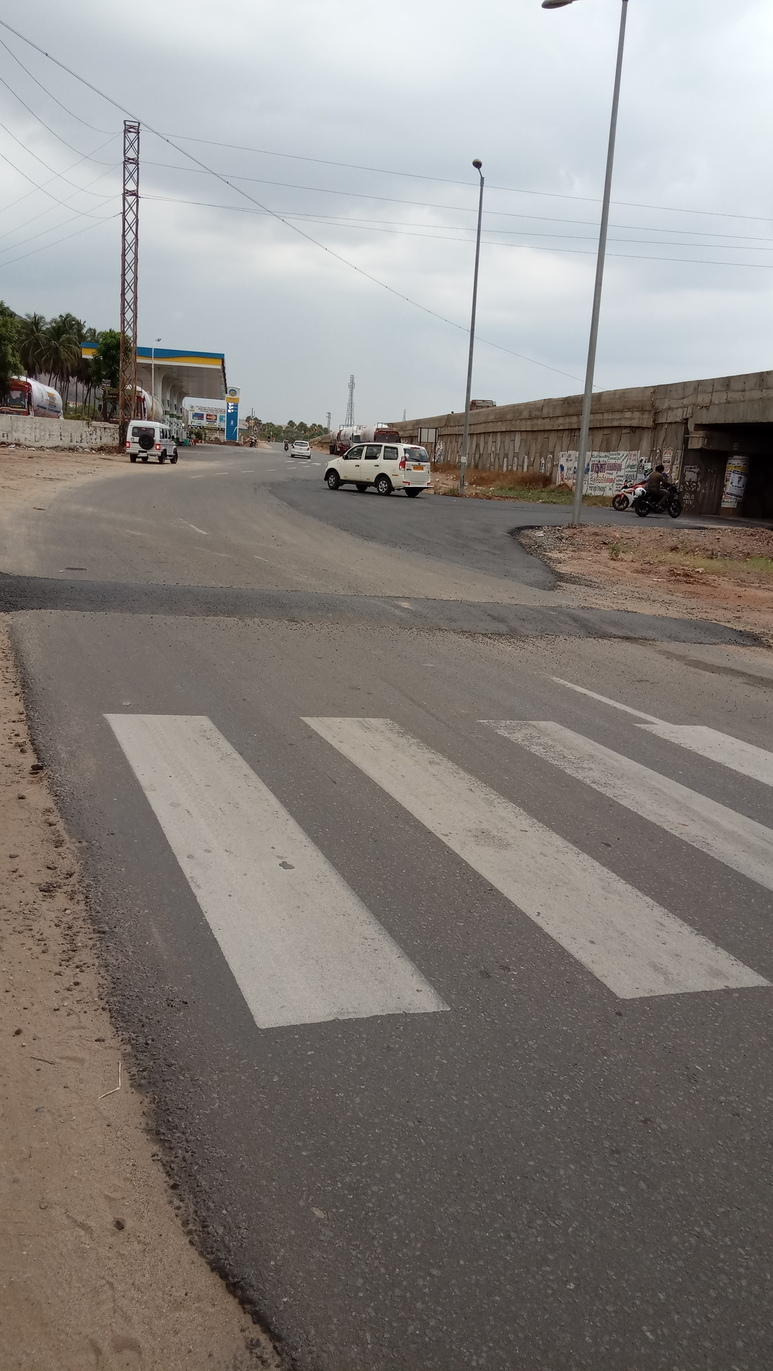bump: (1, 563, 772, 657)
